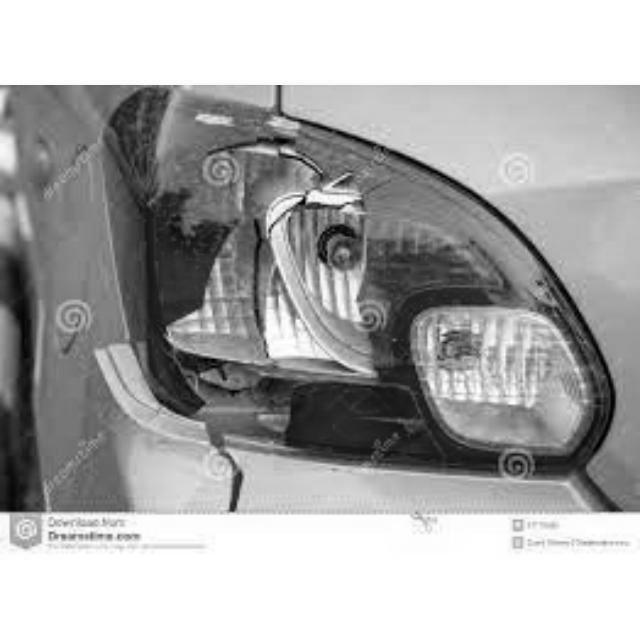Taillight-Damage: (69, 89, 628, 509)
